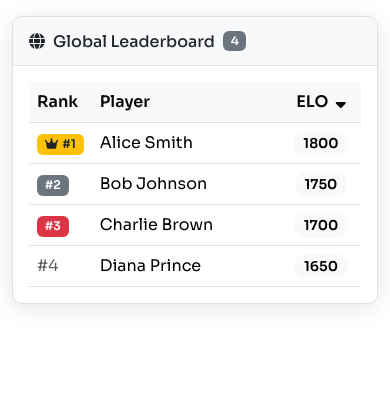
Test case: GlobalLeaderboard › mobile view › should collapse row when clicking again
Check: the text "Alice Smith" is shown, box x1=92 y1=123 x2=281 y2=164
# Click to expand
Click the text "Alice Smith": (195, 143) x1=29 y1=123 x2=361 y2=164
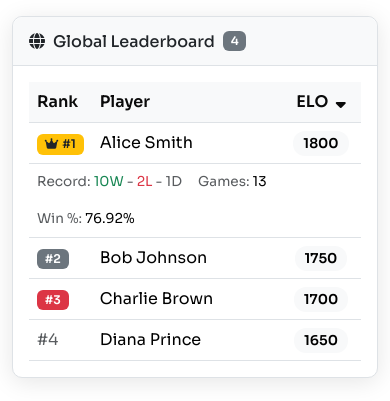
Check: the row with class "leaderboard-expanded-row" is shown, box x1=29 y1=164 x2=361 y2=238
# Click again to collapse
Click the text "Alice Smith": (195, 143) x1=29 y1=123 x2=361 y2=164
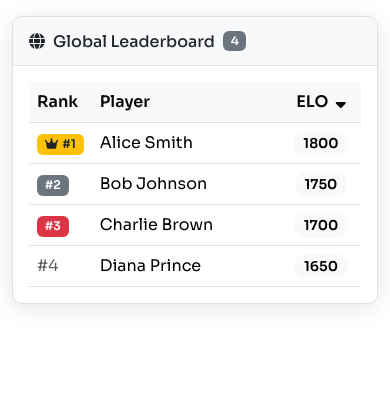
Check: the row with class "leaderboard-expanded-row" is gone
